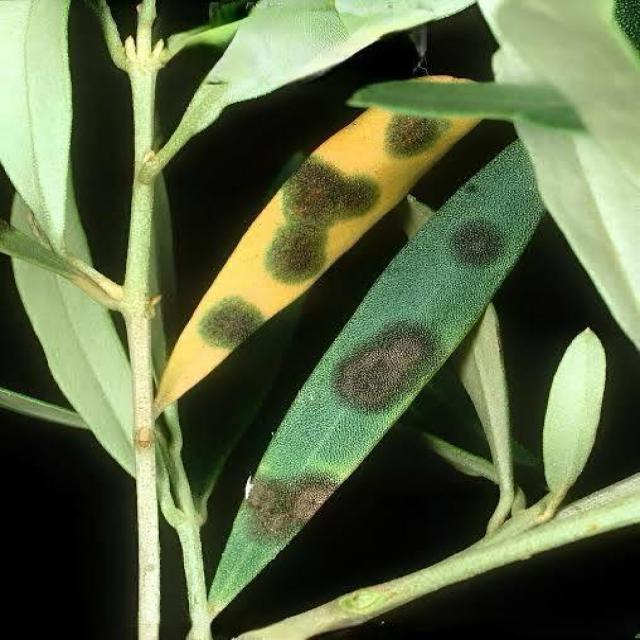OlivePeacockSpot: (210, 141, 542, 609), (156, 109, 420, 408)
